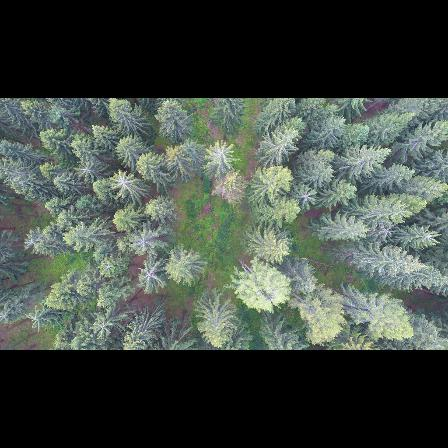Sick: (128, 228, 164, 255), (108, 167, 137, 196), (206, 141, 236, 168), (137, 260, 164, 290), (293, 184, 321, 210), (89, 315, 117, 341), (72, 159, 96, 180)
